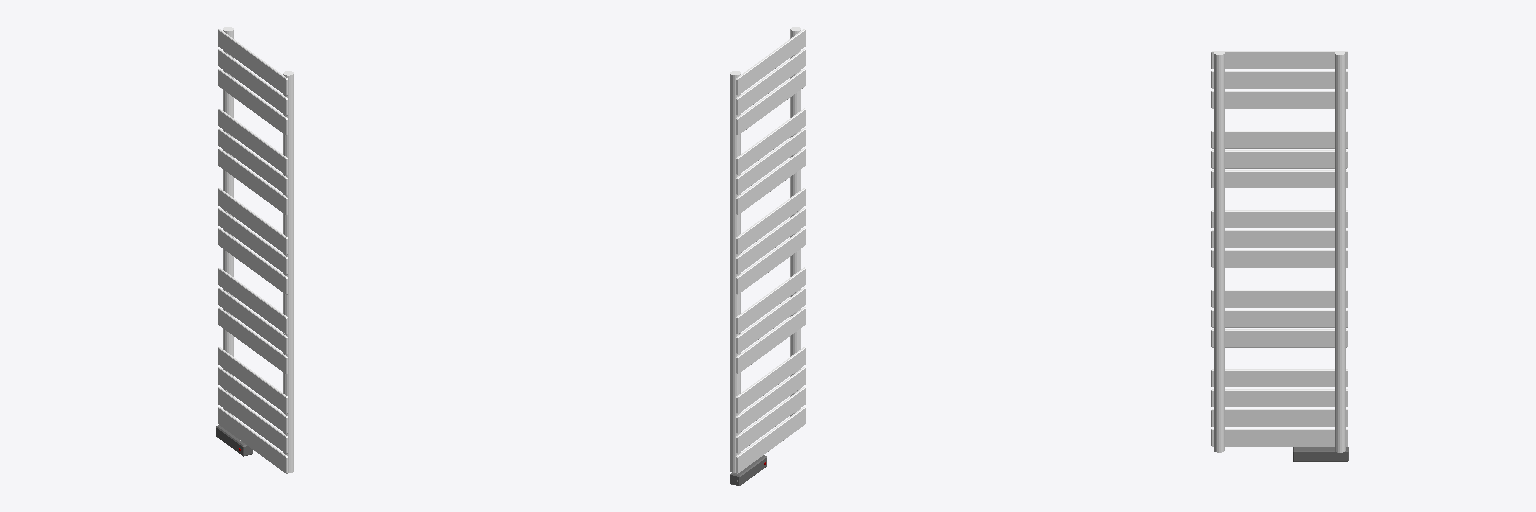
3 renders of one model, left to right at view 1: azimuth 30°, elevation 25°; view 2: azimuth 150°, elevation 25°; view 3: azimuth 270°, elevation 25°, orthographic.
Parts seen in each view (by area): view 1: colecteur_2_2, Cube_2_2_5, Cube_2_1_4, Cube_2_3_6, Cube_2_8_11, Cube_2_9_12, Cube_2_3, Cube_2_7_10, Cube_2_10_13, Cube_2_13_16, Cube_2_14_17, Cube_2_15_18 (+6 smaller); view 2: colecteur_1_1, Cube_2_2_5, Cube_2_3_6, Cube_2_10_13, Cube_2_1_4, Cube_2_4_7, Cube_2_8_11, Cube_2_9_12, Cube_2_3, Cube_2_5_8, Cube_2_6_9, Cube_2_7_10 (+6 smaller); view 3: colecteur_2_2, colecteur_1_1, Cube_2_4_7, Cube_2_11_14, Cube_2_15_18, Cube_2_3, Cube_2_1_4, Cube_2_2_5, Cube_2_3_6, Cube_2_5_8, Cube_2_6_9, Cube_2_7_10 (+7 smaller).
Boxes of the visible parts, <box> form: colecteur_2_2: <box>283,71,293,472</box>; Cube_2_2_5: <box>218,367,287,433</box>; Cube_2_1_4: <box>218,387,287,453</box>; Cube_2_3_6: <box>218,347,287,413</box>; Cube_2_8_11: <box>218,208,287,274</box>; Cube_2_9_12: <box>218,188,287,254</box>; Cube_2_3: <box>218,407,287,473</box>; Cube_2_7_10: <box>218,228,287,294</box>; Cube_2_10_13: <box>218,148,287,214</box>; Cube_2_13_16: <box>218,69,287,135</box>; Cube_2_14_17: <box>218,49,287,115</box>; Cube_2_15_18: <box>218,29,287,95</box>; colecteur_1_1: <box>730,71,740,472</box>; Cube_2_2_5: <box>736,367,805,433</box>; Cube_2_3_6: <box>736,347,805,413</box>; Cube_2_10_13: <box>736,148,805,214</box>; Cube_2_1_4: <box>736,387,805,453</box>; Cube_2_4_7: <box>736,307,805,373</box>; Cube_2_8_11: <box>736,208,805,274</box>; Cube_2_9_12: <box>736,188,805,254</box>; Cube_2_3: <box>736,407,805,473</box>; Cube_2_5_8: <box>736,287,805,353</box>; Cube_2_6_9: <box>736,267,805,333</box>; Cube_2_7_10: <box>736,228,805,294</box>; colecteur_2_2: <box>1214,51,1224,452</box>; colecteur_1_1: <box>1335,51,1345,452</box>; Cube_2_4_7: <box>1211,329,1347,347</box>; Cube_2_11_14: <box>1211,150,1347,168</box>; Cube_2_15_18: <box>1211,51,1347,68</box>; Cube_2_3: <box>1211,429,1347,446</box>; Cube_2_1_4: <box>1211,409,1347,426</box>; Cube_2_2_5: <box>1211,389,1347,406</box>; Cube_2_3_6: <box>1211,369,1347,386</box>; Cube_2_5_8: <box>1211,310,1347,327</box>; Cube_2_6_9: <box>1211,290,1347,307</box>; Cube_2_7_10: <box>1211,250,1347,267</box>.
Size of the model in its own units: 6 by 164 by 50.2.